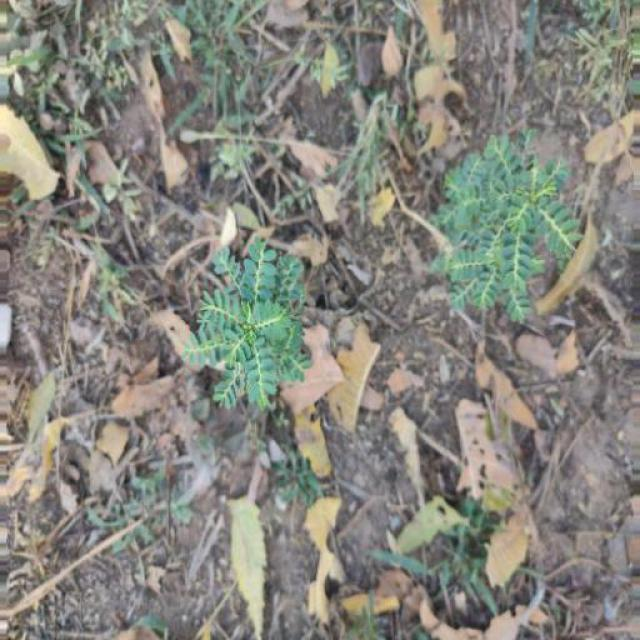weed: (174, 204, 335, 446), (428, 126, 588, 365)
